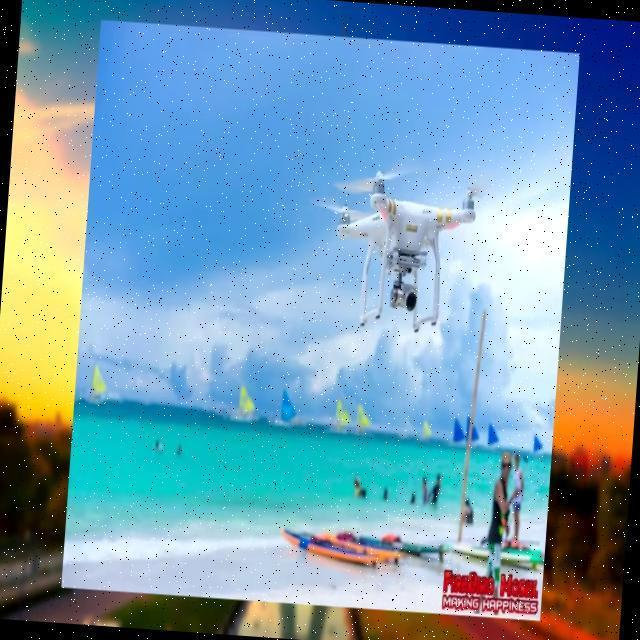Drons: (290, 140, 483, 351)
